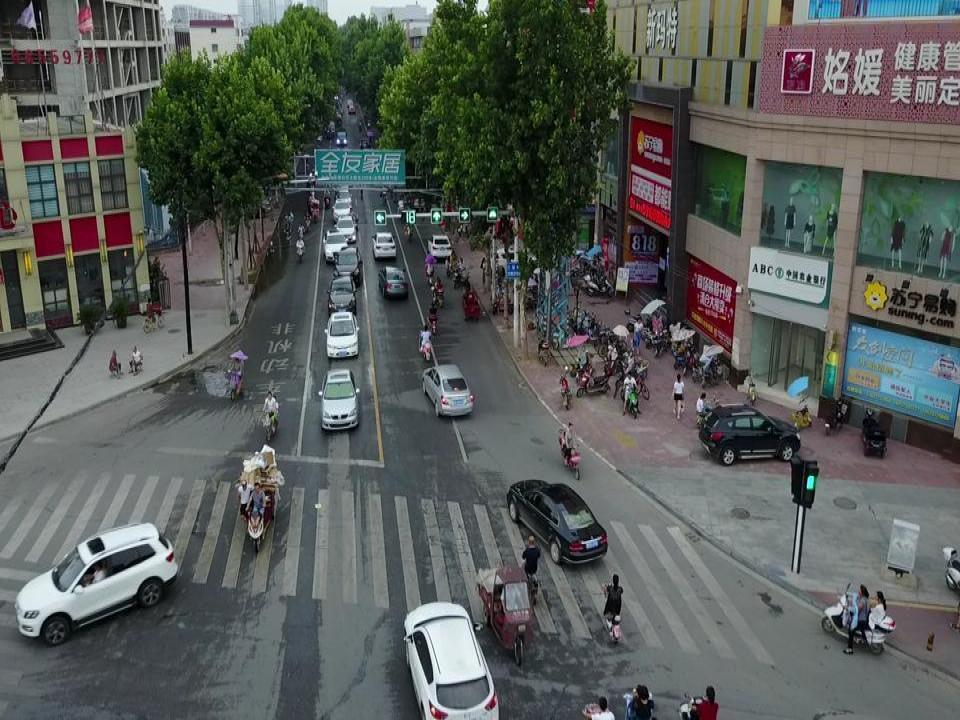car: (14, 523, 179, 645), (400, 601, 499, 720), (506, 477, 608, 563), (698, 404, 799, 463), (421, 364, 473, 416), (321, 369, 360, 432), (326, 311, 359, 357), (326, 276, 356, 319), (333, 247, 363, 285), (379, 268, 409, 300), (489, 248, 527, 273), (322, 228, 349, 263), (371, 231, 396, 261), (429, 233, 452, 260), (335, 216, 356, 244), (332, 199, 352, 225), (334, 190, 355, 207), (411, 189, 426, 211), (336, 131, 348, 146), (359, 137, 369, 151), (346, 97, 353, 111), (348, 107, 356, 116)
